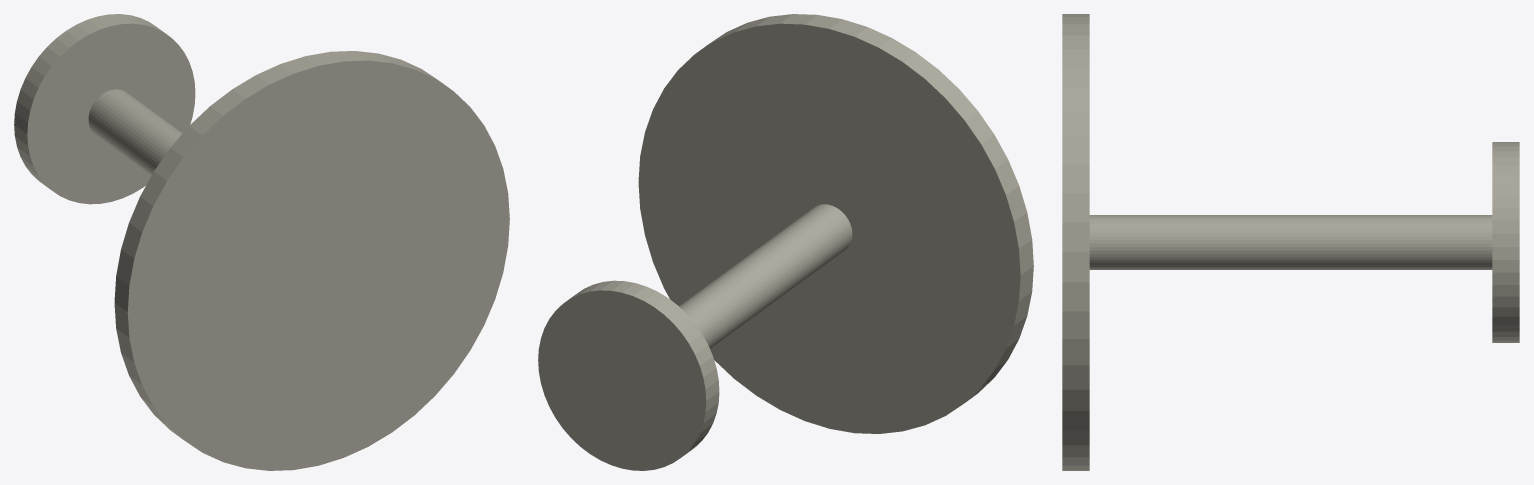
Rendered from round_table.obj.
3 views of the same model, side by side, from view 1: azimuth 30°, elevation 25°; view 2: azimuth 150°, elevation 25°; view 3: azimuth 270°, elevation 25° (orthographic). The views are drawn at different scales.
Bounding box in the file's own units: 1 × 1 × 1.
1 material, 1 textured.
